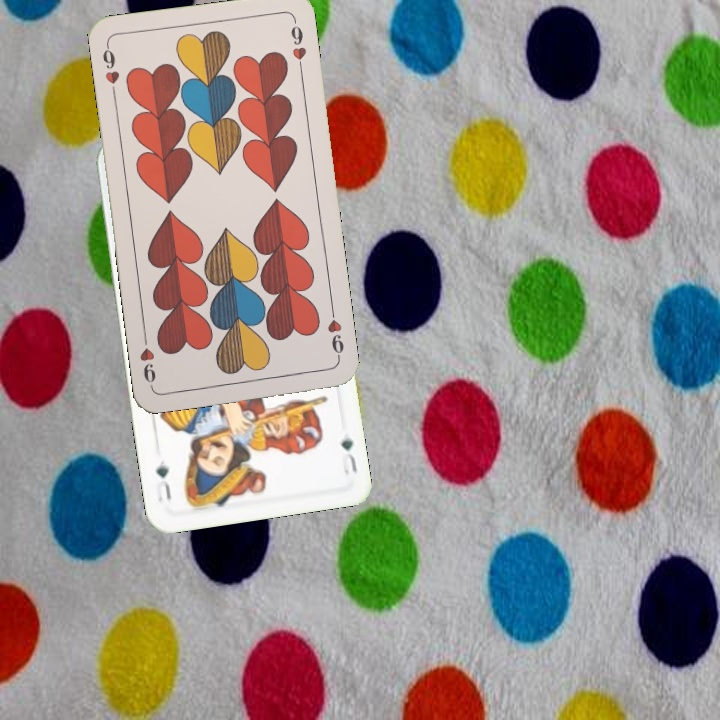GU: (337, 433, 360, 477)
H9: (323, 304, 347, 364), (98, 41, 122, 100)
